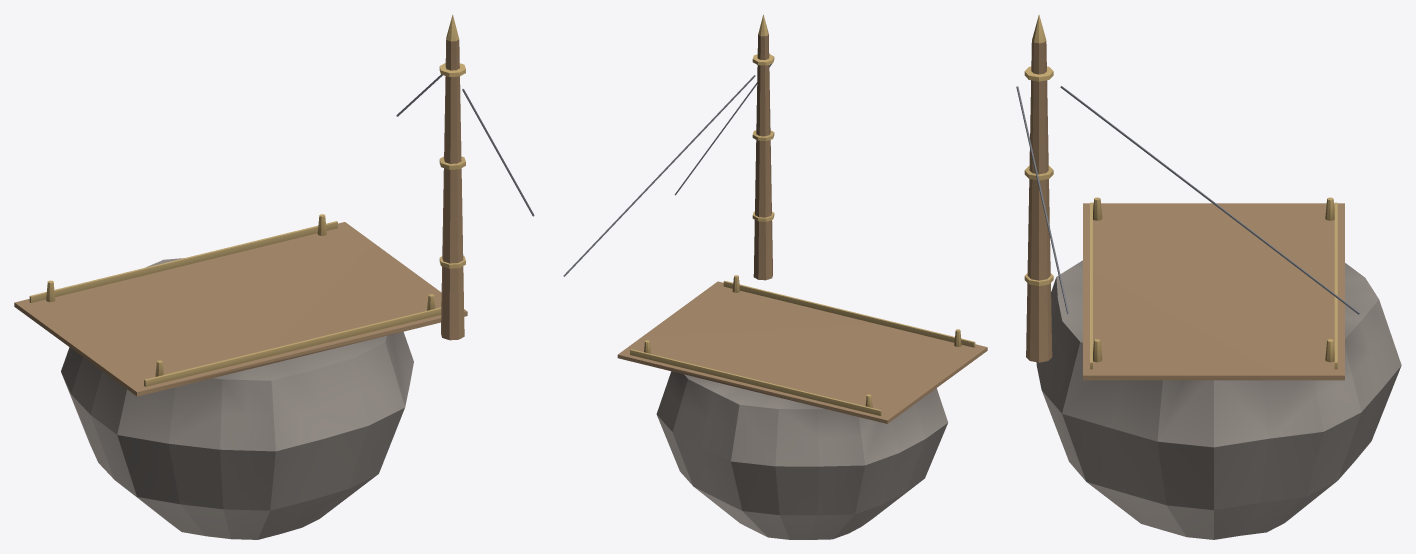
File: 02_mooring_dock.glb
3 views of the same model, side by side, from view 1: azimuth 30°, elevation 25°; view 2: azimuth 150°, elevation 25°; view 3: azimuth 270°, elevation 25° (orthographic). The views are drawn at different scales.
Parts seen in each view (by area): view 1: mooring_dock_rock, mooring_dock_wood, mooring_dock_brass_nocol; view 2: mooring_dock_rock, mooring_dock_wood, mooring_dock_brass_nocol, mooring_dock_iron_nocol; view 3: mooring_dock_wood, mooring_dock_rock, mooring_dock_brass_nocol, mooring_dock_iron_nocol, mooring_dock_brass.
Boxes of the visible parts, x1,y1,x2,y2 form: mooring_dock_rock: [61, 258, 413, 539]; mooring_dock_wood: [14, 39, 467, 396]; mooring_dock_brass_nocol: [29, 14, 465, 386]; mooring_dock_rock: [656, 371, 948, 539]; mooring_dock_wood: [617, 34, 987, 423]; mooring_dock_brass_nocol: [630, 14, 975, 415]; mooring_dock_iron_nocol: [563, 64, 771, 276]; mooring_dock_wood: [1026, 41, 1344, 380]; mooring_dock_rock: [1036, 260, 1401, 539]; mooring_dock_brass_nocol: [1024, 14, 1337, 369]; mooring_dock_iron_nocol: [1016, 86, 1359, 314]; mooring_dock_brass: [1093, 197, 1334, 362].
Bounding box in the file's own units: 66.13 × 84 × 52.93.
